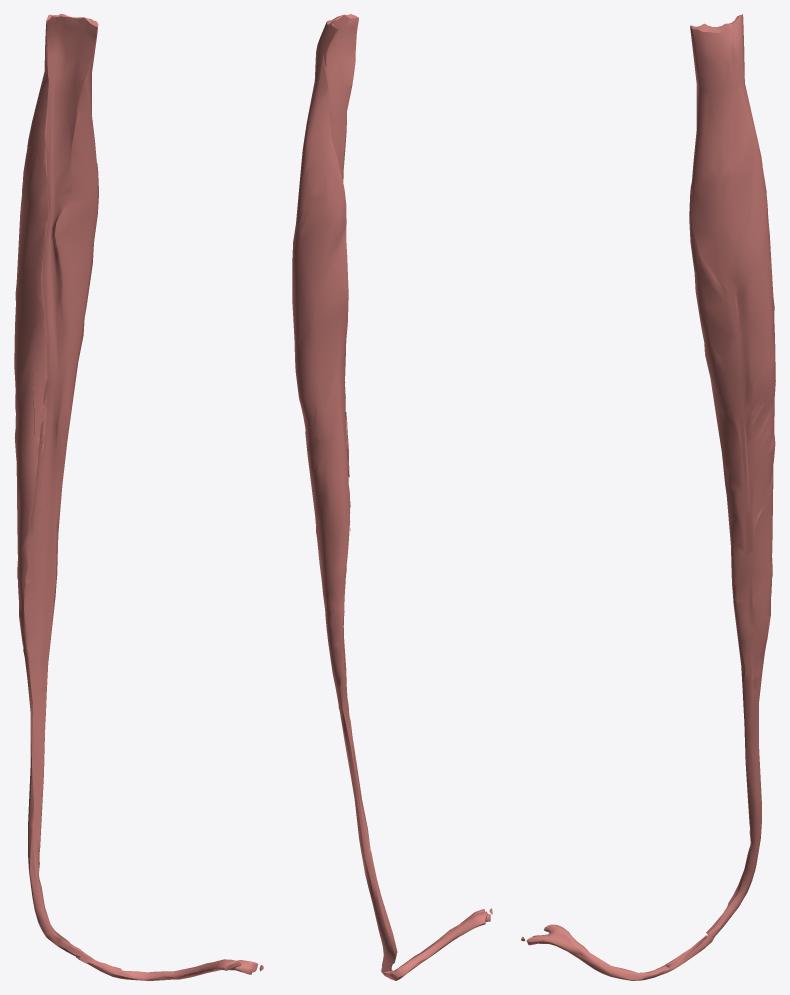
File: fma22553_fj1410m.glb
3 views of the same model, side by side, from view 1: azimuth 90°, elevation 25°; view 2: azimuth 150°, elevation 25°; view 3: azimuth 270°, elevation 25° (orthographic). The views are drawn at different scales.
Visible parts, largest first — view 1: FMA22553_FJ1410M; view 2: FMA22553_FJ1410M; view 3: FMA22553_FJ1410M.
Boxes of the visible parts, bbox=[...] form: FMA22553_FJ1410M: bbox=[14, 14, 263, 980]; FMA22553_FJ1410M: bbox=[292, 14, 492, 980]; FMA22553_FJ1410M: bbox=[521, 14, 775, 980].
Bounding box in the file's own units: 0.044 × 0.4046 × 0.0957.
